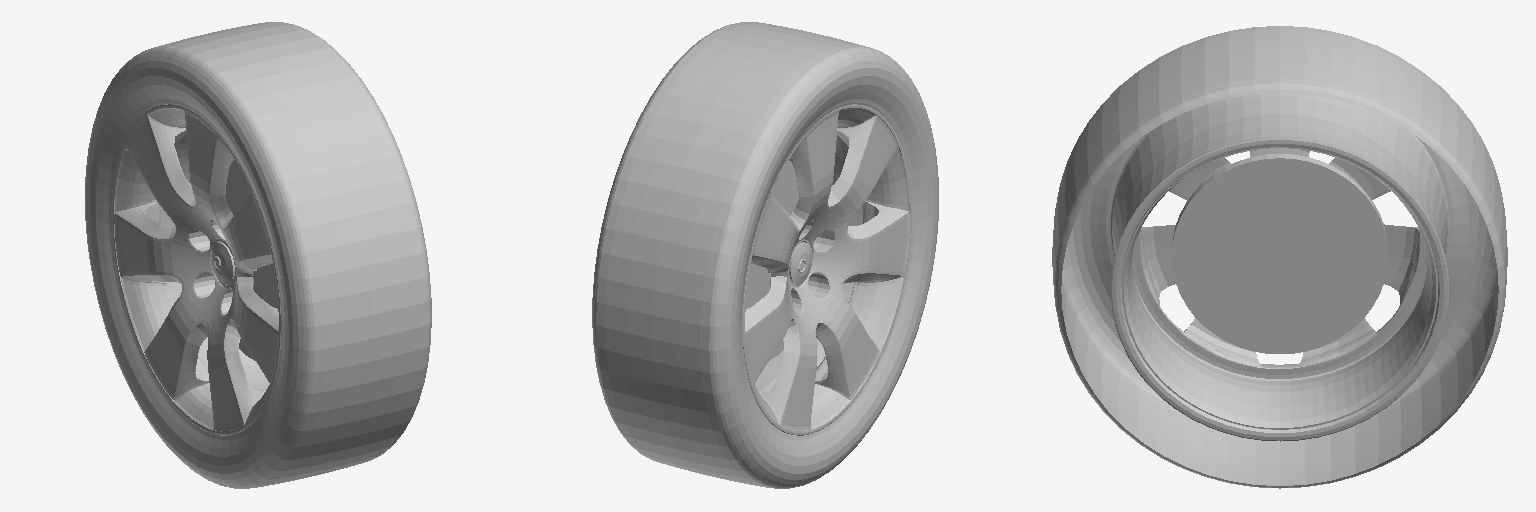
File: llanta_trasera_derecha_coche.obj
3 views of the same model, side by side, from view 1: azimuth 30°, elevation 25°; view 2: azimuth 150°, elevation 25°; view 3: azimuth 270°, elevation 25° (orthographic).
Parts seen in each view (by area): view 1: Audi_A6.002; view 2: Audi_A6.002; view 3: Audi_A6.002.
Part boxes in pixels (left/top/right/bottom): Audi_A6.002: left=85, top=22, right=431, bottom=488; Audi_A6.002: left=592, top=22, right=938, bottom=488; Audi_A6.002: left=1052, top=26, right=1507, bottom=488.
Bounding box in the file's own units: 3.95 × 11.17 × 11.17.